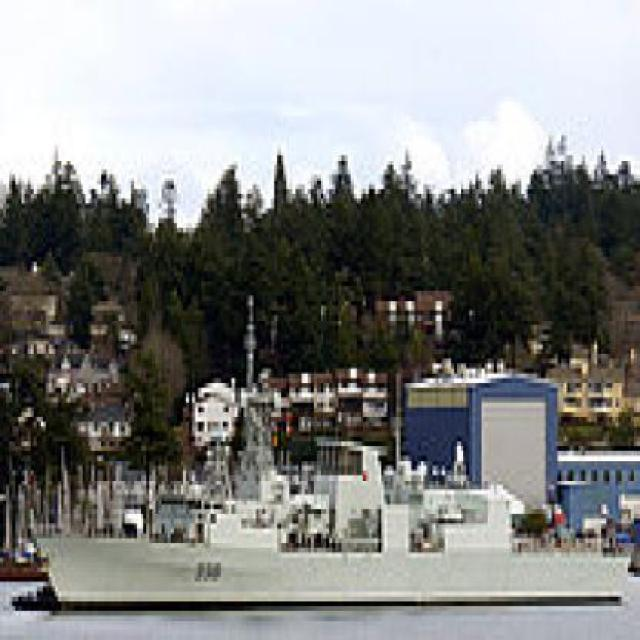warship2: (26, 360, 632, 622)
